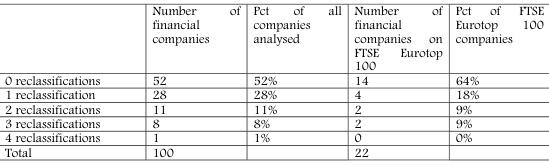table: (4, 4, 542, 158)
table column: (4, 4, 125, 158), (125, 4, 245, 158), (245, 4, 347, 158), (347, 4, 448, 158), (448, 4, 542, 158)
table column header: (4, 4, 542, 73)
table row: (4, 4, 542, 73), (4, 101, 542, 116), (4, 130, 542, 145), (4, 73, 542, 87), (4, 87, 542, 101), (4, 116, 542, 130), (4, 145, 542, 158)
